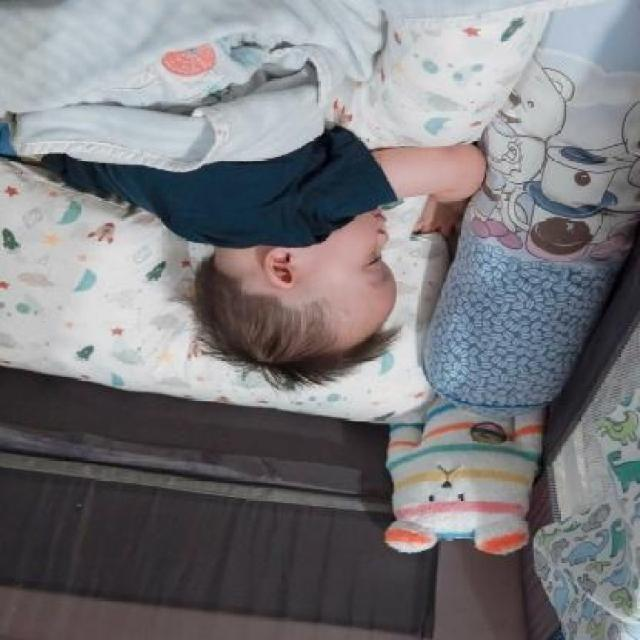baby: (44, 70, 484, 384)
